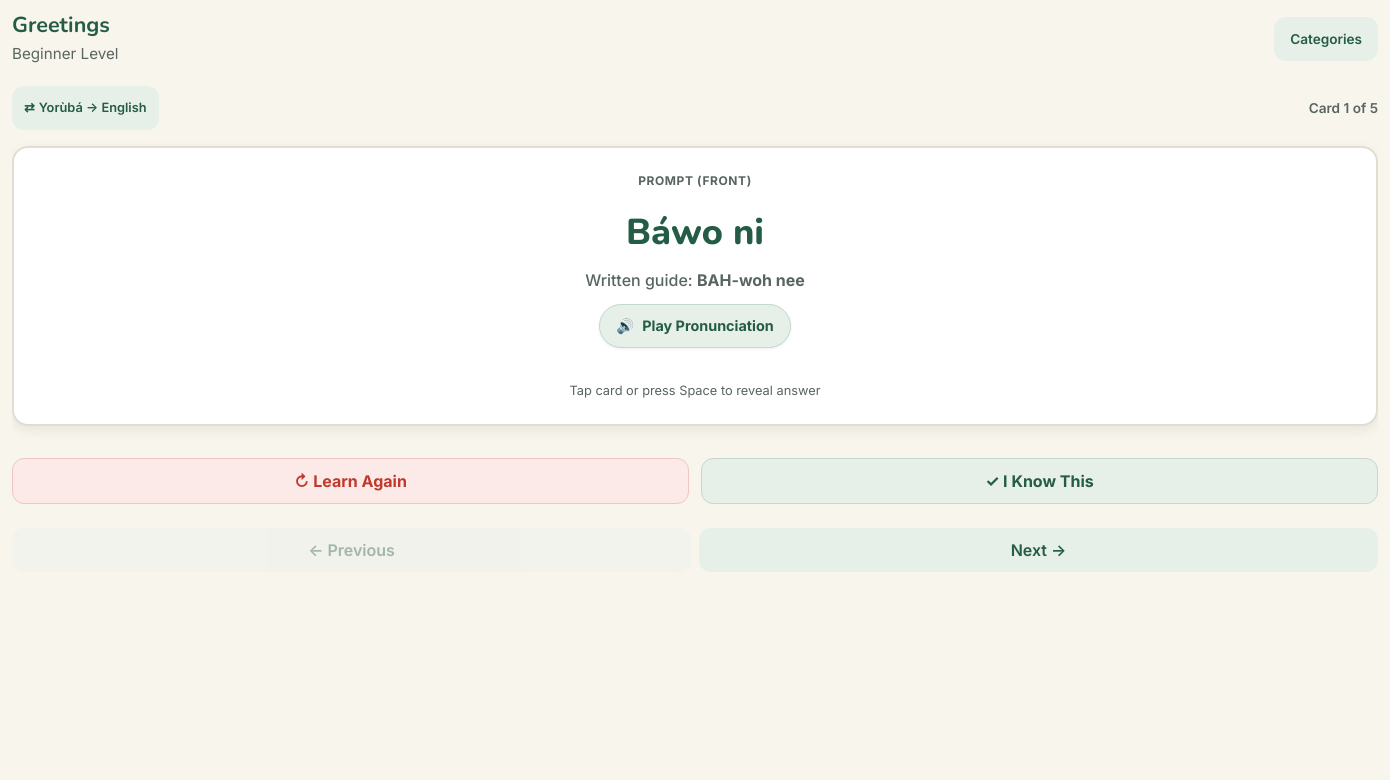
Test: Interactive Flashcards Screen › updates ratings when clicking "I know this" and "Learn again"
Later steps or results of the test are not shown.
// Rate "I know this" on first word
Click the button with aria-label "Mark as known: I know this".
click(1040, 481)  # box [701, 458, 1378, 504]
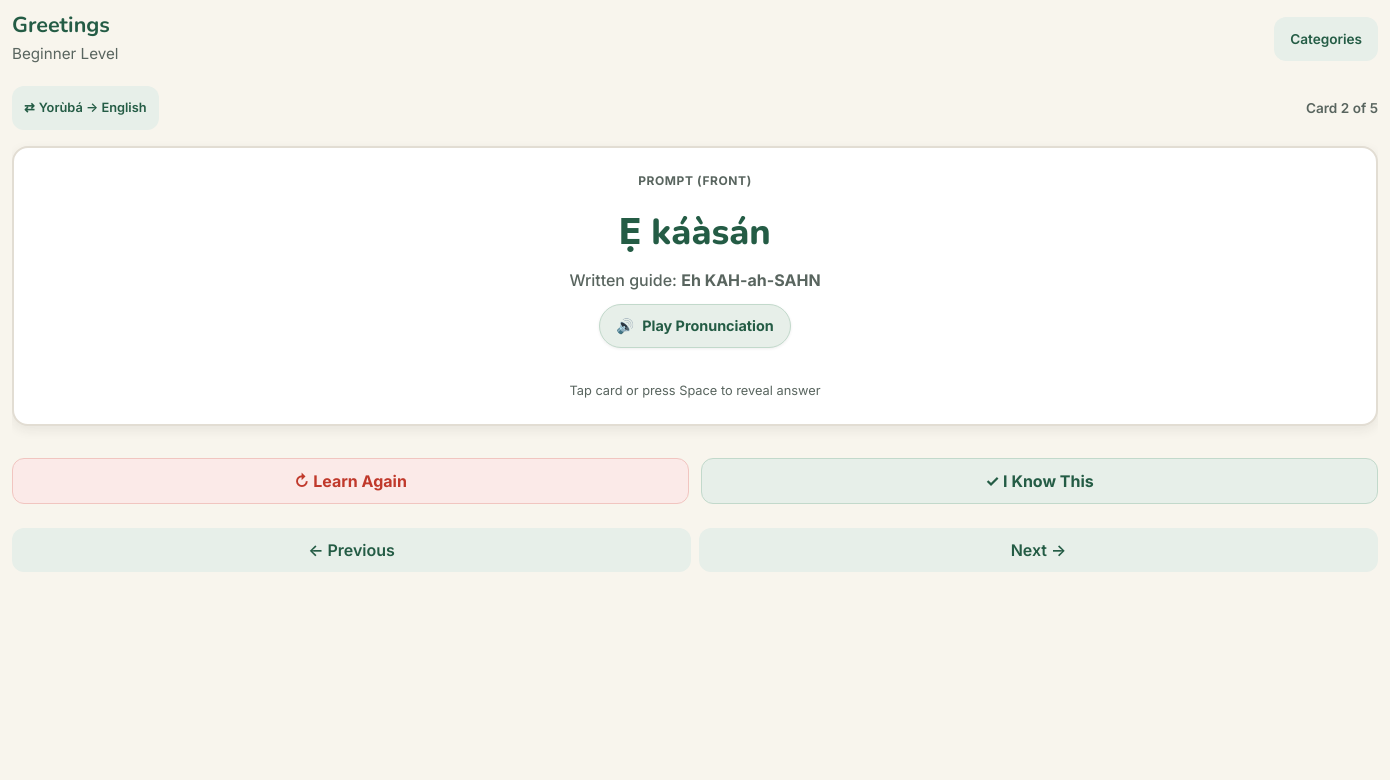
Check: the text "Card 2 of 5" is shown, box [1306, 98, 1378, 118]
Check: the text "Ẹ káàsán" is shown, box [619, 208, 771, 257]
